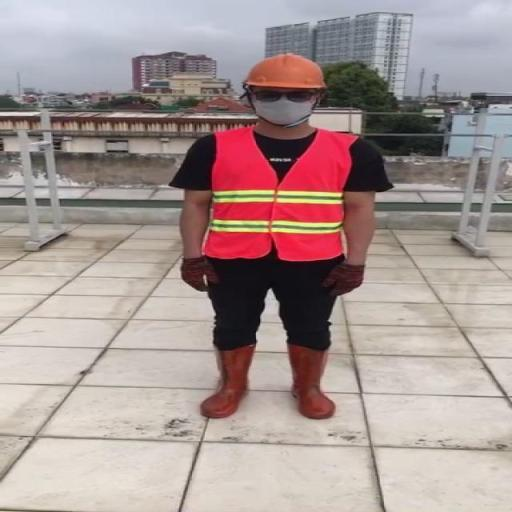Boots: (287, 343, 340, 420), (200, 344, 254, 418)
Helmet: (244, 51, 329, 89)
Person: (168, 53, 392, 428)
